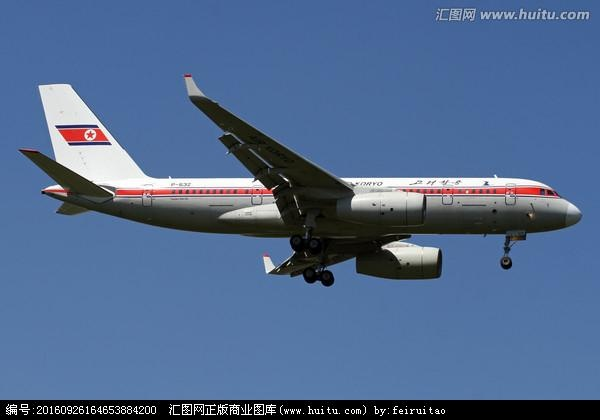airplane: (13, 76, 587, 292)
